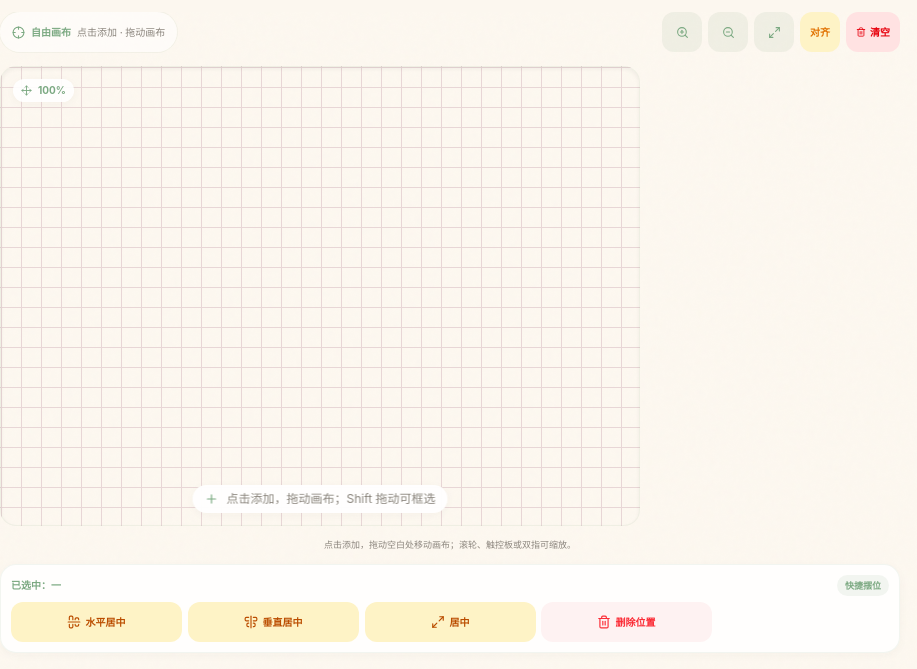
it: FreeLayoutEditor › box-selects multiple slots without creating a preview slot
Press the mouse on the element with test id "free-layout-viewport" at (320, 296), box 0,66 -> 640,526
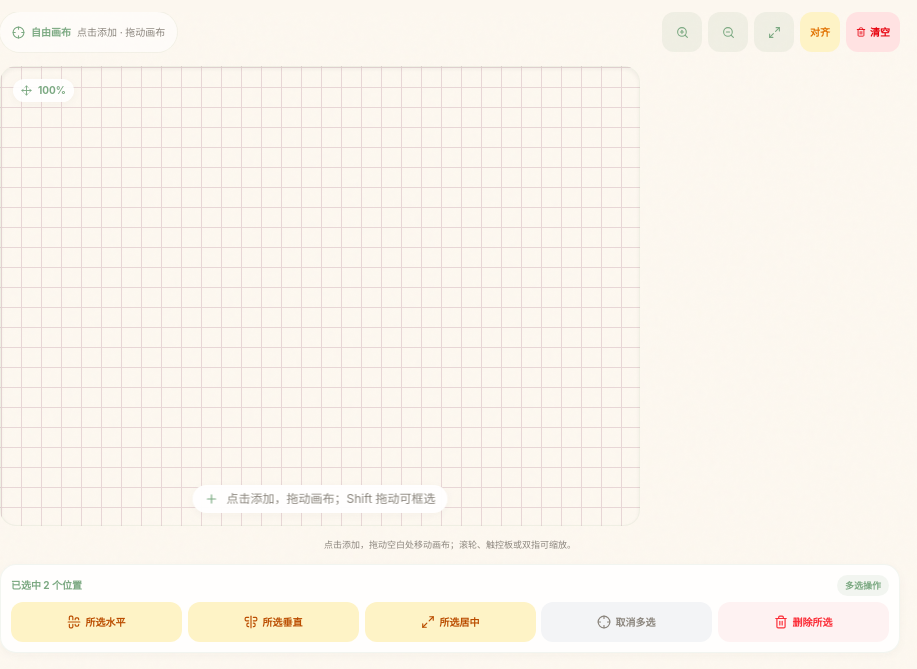
Expected: the text "已选中 2 个位置" is shown, 11,578 -> 82,593
